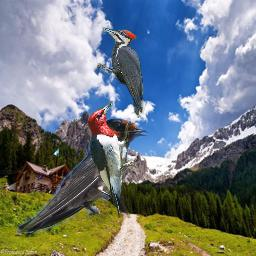Swallow: (17, 118, 148, 233)
Woodpecker: (87, 101, 136, 218), (97, 27, 147, 118)
